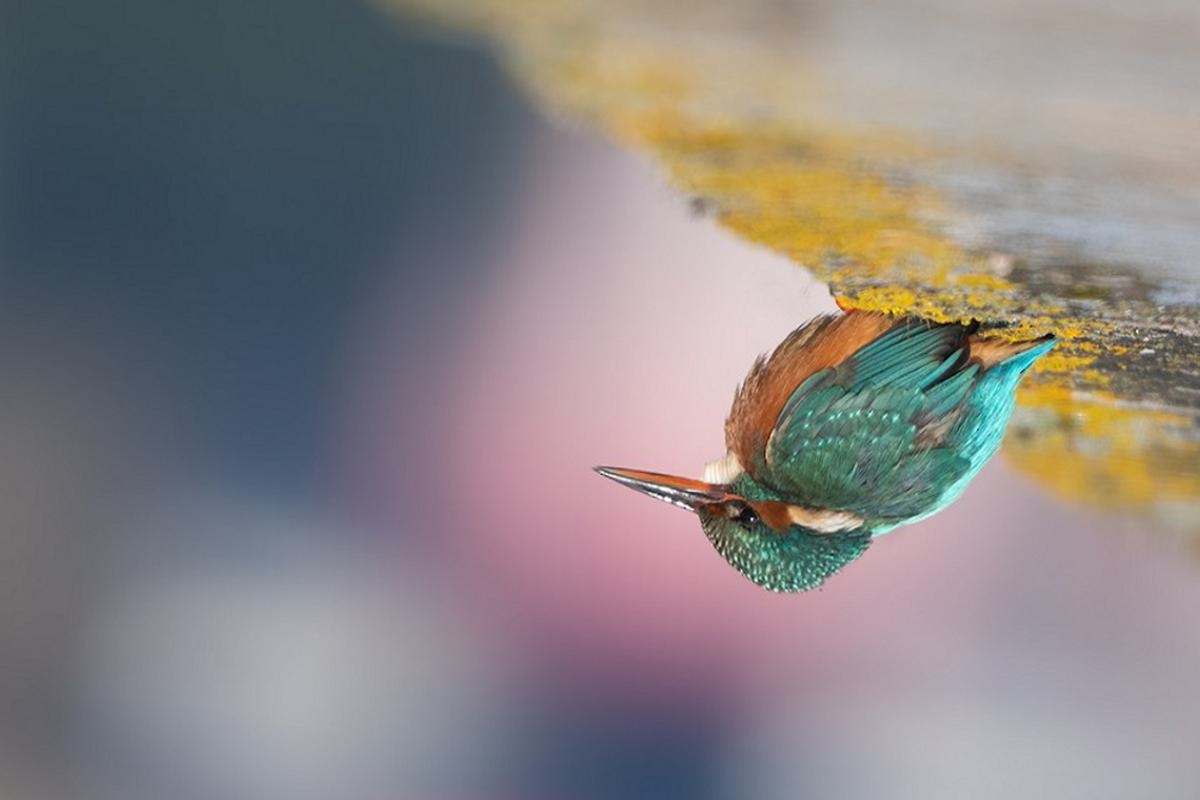kingfisher: (599, 297, 1077, 622)
